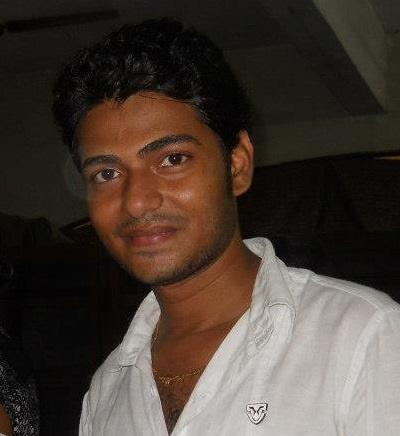No Mask: (32, 35, 293, 337)
